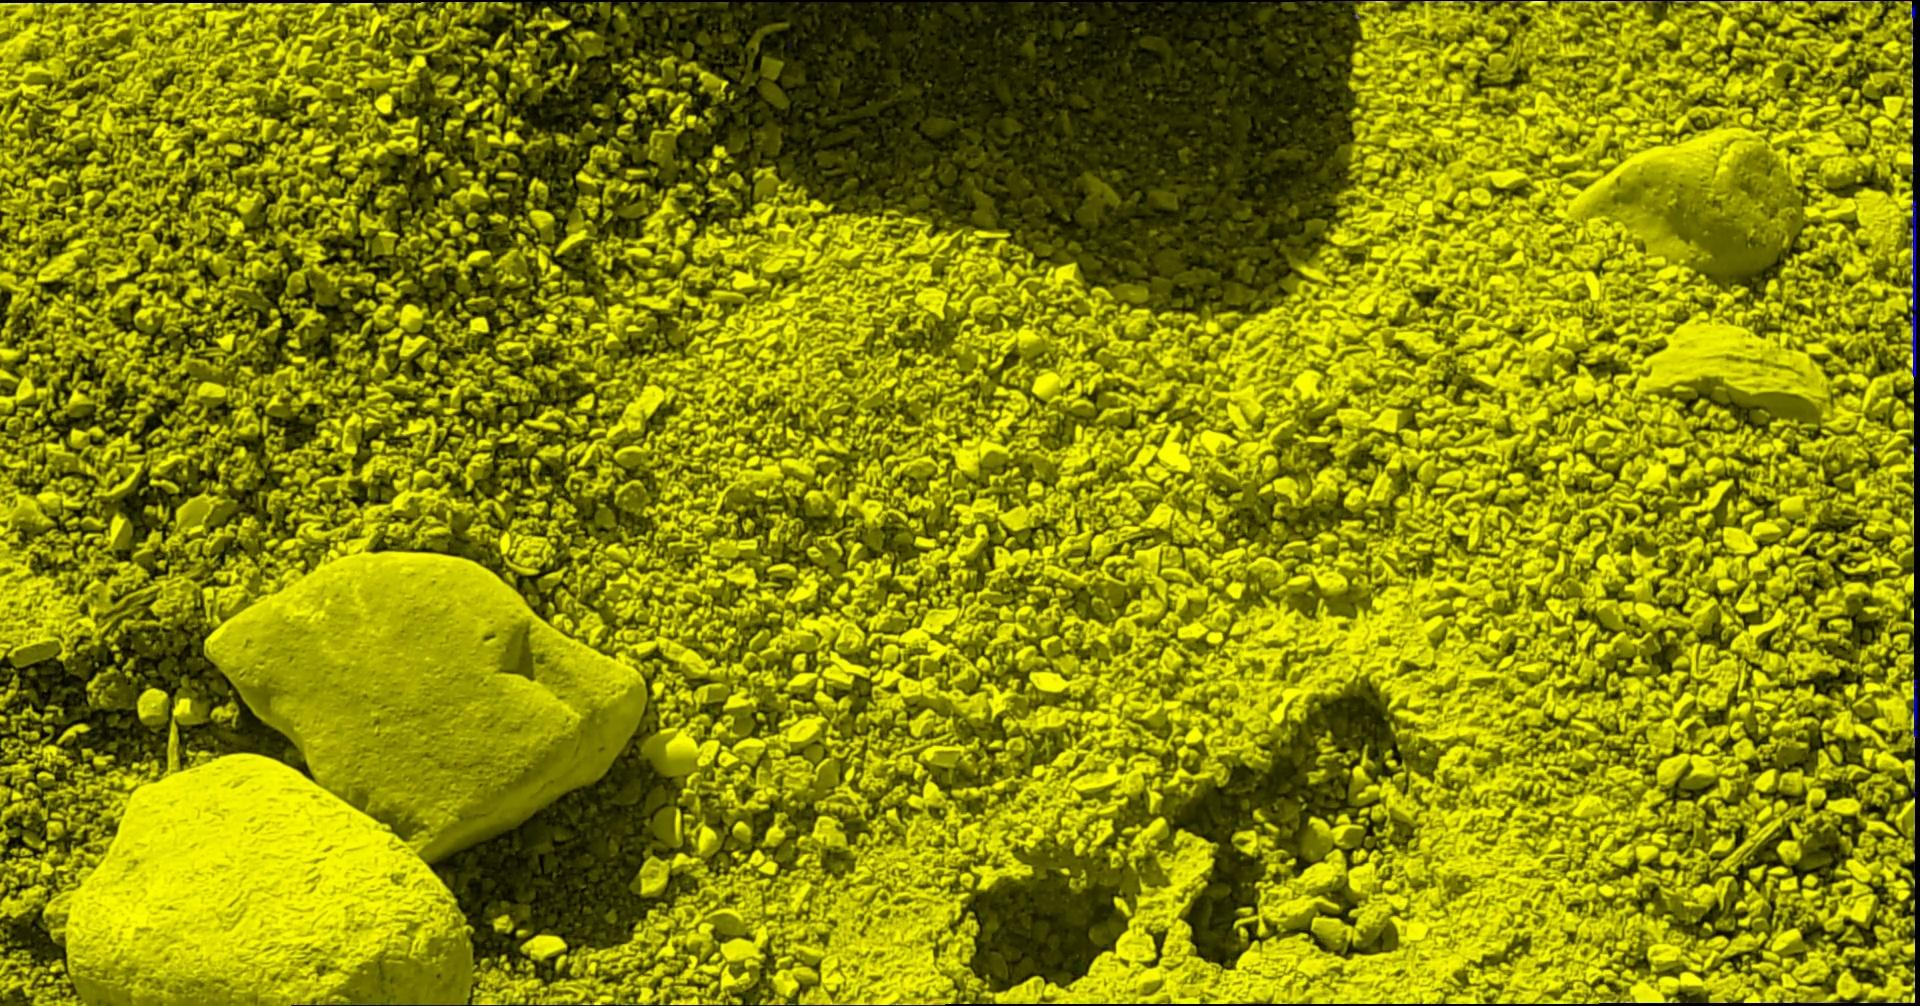ant: (1910, 199, 1916, 377), (1912, 678, 1919, 737)
